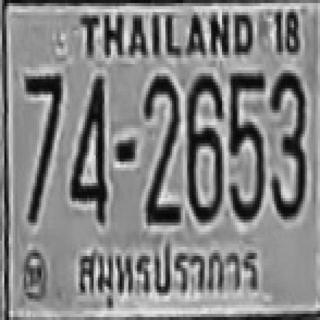N02: (144, 75, 178, 206)
N03: (269, 70, 306, 216)
N04: (68, 73, 105, 222)
N05: (228, 70, 264, 219)
N06: (185, 73, 222, 219)
N07: (24, 72, 61, 221)
P57: (71, 237, 266, 310)
